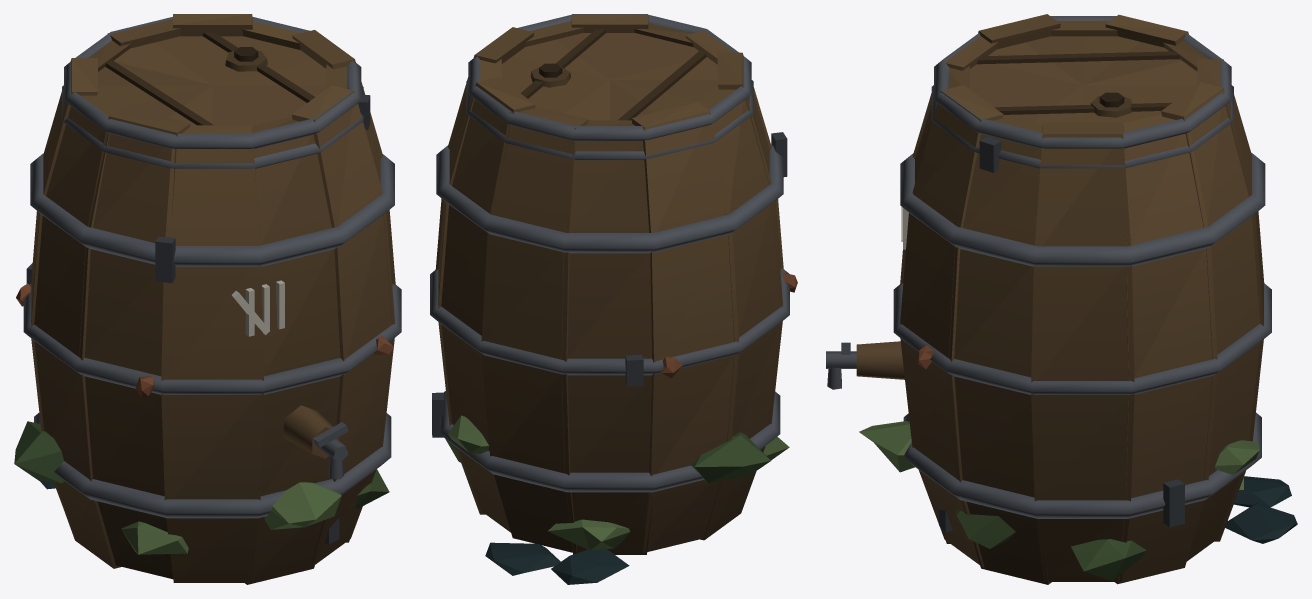
Rendered from dun-ale-barrel.glb.
3 views of the same model, side by side, from view 1: azimuth 30°, elevation 25°; view 2: azimuth 150°, elevation 25°; view 3: azimuth 270°, elevation 25° (orthographic). The views are drawn at different scales.
Visible parts, largest first — view 1: dun_ale_barrel; view 2: dun_ale_barrel; view 3: dun_ale_barrel.
Boxes of the visible parts, bbox=[...] form: dun_ale_barrel: bbox=[14, 14, 401, 584]; dun_ale_barrel: bbox=[430, 14, 797, 584]; dun_ale_barrel: bbox=[826, 14, 1297, 584].
Size of the model in its own units: 0.6857 by 0.8576 by 0.805.
